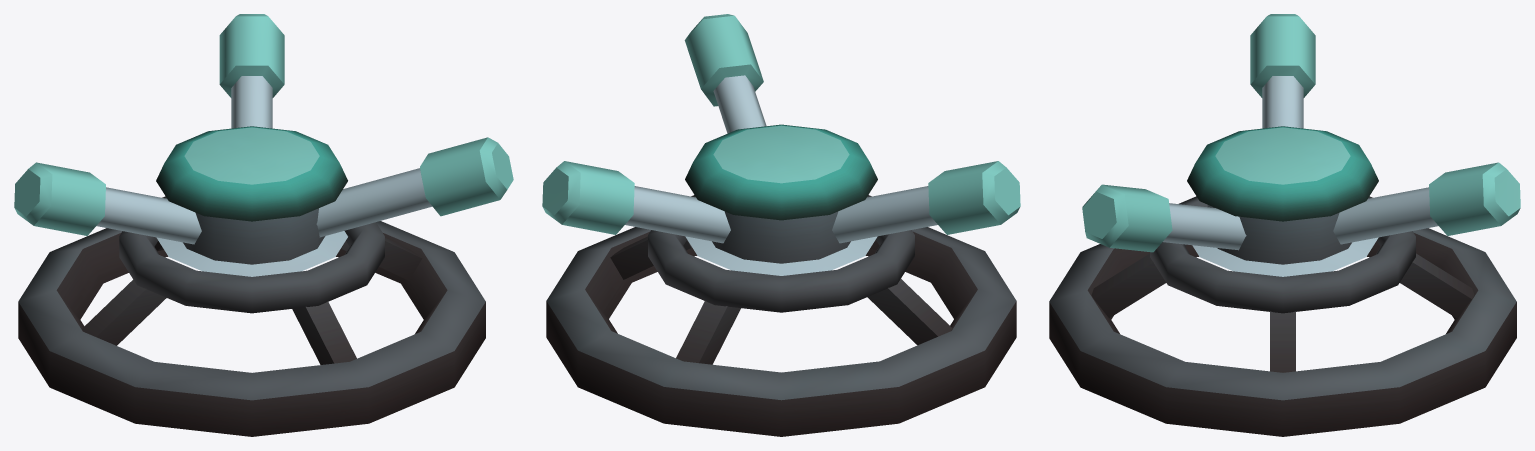
The model's file is Sprinkler.fbx.
3 renders of one model, left to right at view 1: azimuth 30°, elevation 25°; view 2: azimuth 150°, elevation 25°; view 3: azimuth 270°, elevation 25°, orthographic.
Parts seen in each view (by area): view 1: Sprinkler; view 2: Sprinkler; view 3: Sprinkler.
Boxes of the visible parts, x1,y1,x2,y2 form: Sprinkler: (14,14,513,436); Sprinkler: (542,14,1020,436); Sprinkler: (1049,14,1520,436).
Size of the model in its own units: 73 by 35.42 by 68.67.
